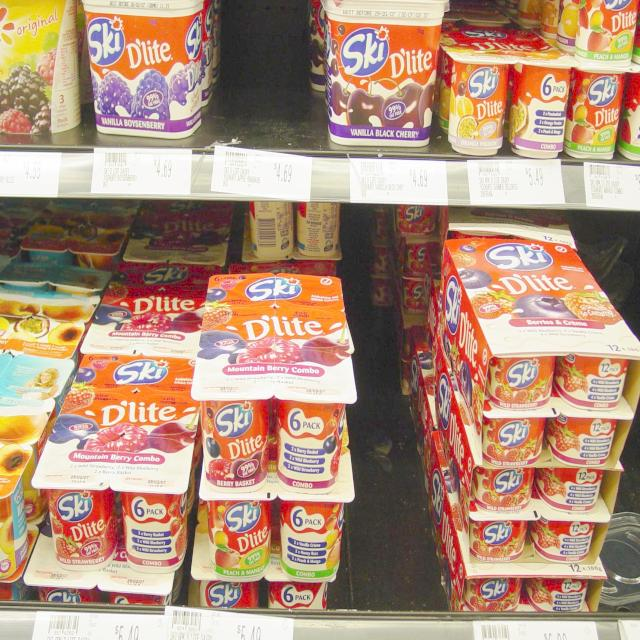empty_space: (353, 246, 438, 594), (218, 10, 310, 130)
